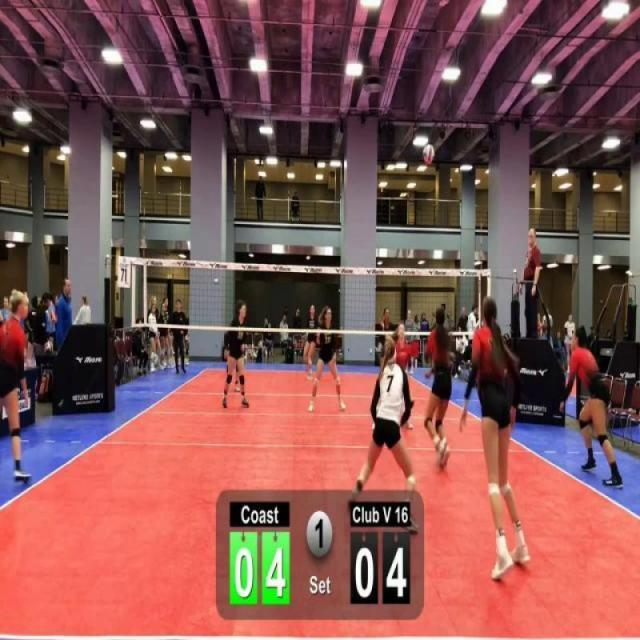volleyball: (422, 142, 437, 168)
